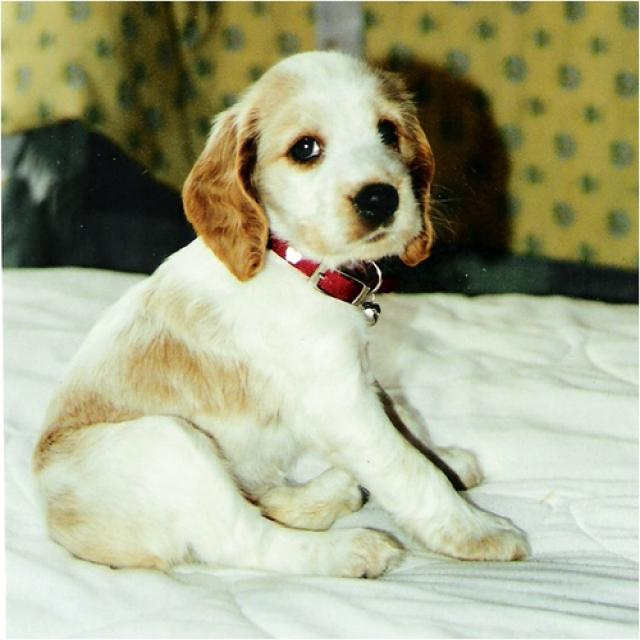dog: (180, 48, 432, 277)
